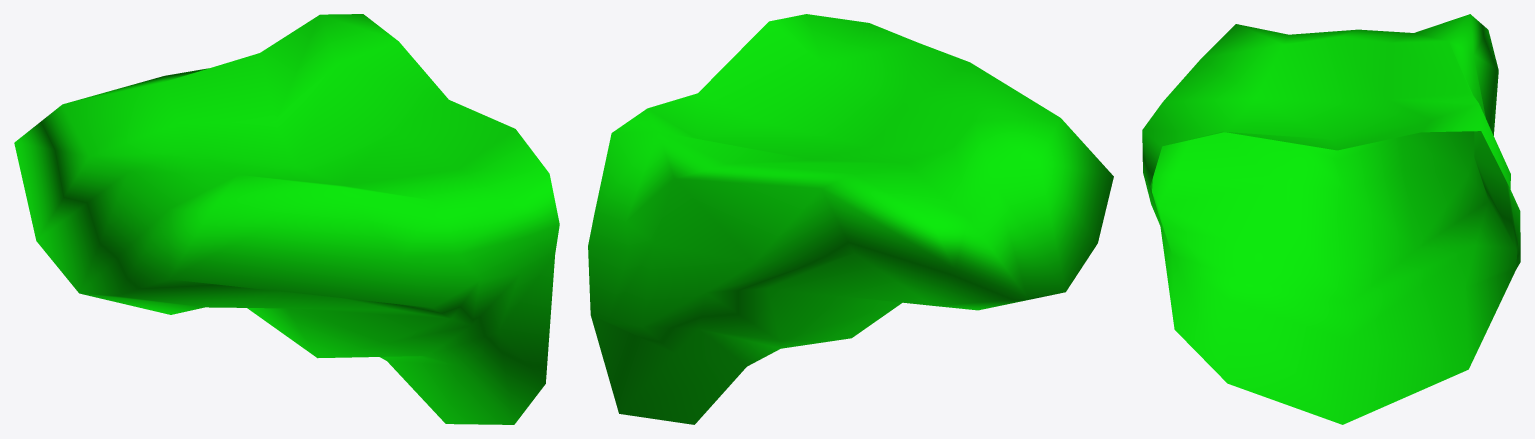
Rendered from SmallWallAttachment03_mesh.fbx.
3 views of the same model, side by side, from view 1: azimuth 30°, elevation 25°; view 2: azimuth 150°, elevation 25°; view 3: azimuth 270°, elevation 25° (orthographic). The views are drawn at different scales.
Visible parts, largest first — view 1: Small_wallattachment03_model; view 2: Small_wallattachment03_model; view 3: Small_wallattachment03_model.
Boxes of the visible parts, <box> form: Small_wallattachment03_model: <box>14,14,559,424</box>; Small_wallattachment03_model: <box>588,14,1113,424</box>; Small_wallattachment03_model: <box>1142,14,1520,424</box>.
Size of the model in its own units: 15.27 by 14.23 by 16.09.
